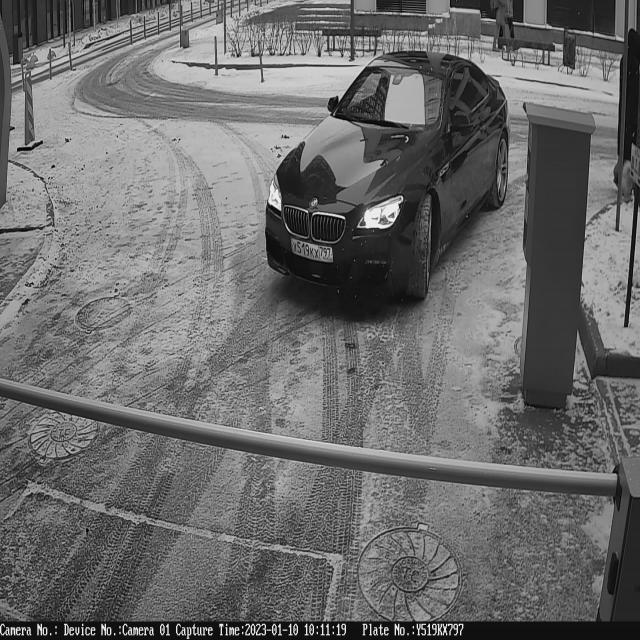car-plate-numbers: (290, 235, 336, 273)
